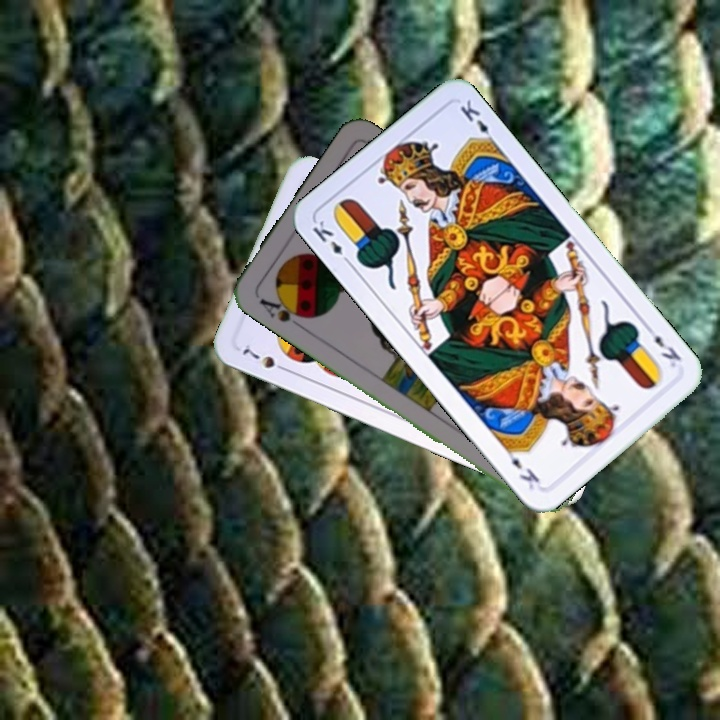EK: (308, 216, 355, 268), (641, 321, 684, 371)
S7: (238, 340, 292, 375)
SA: (255, 292, 312, 332)
